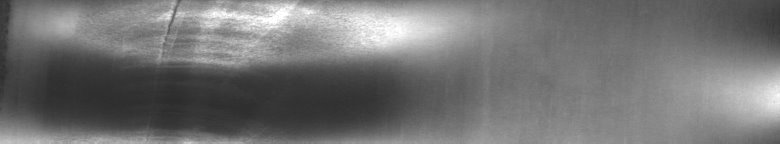ke: (4, 4, 424, 136)
